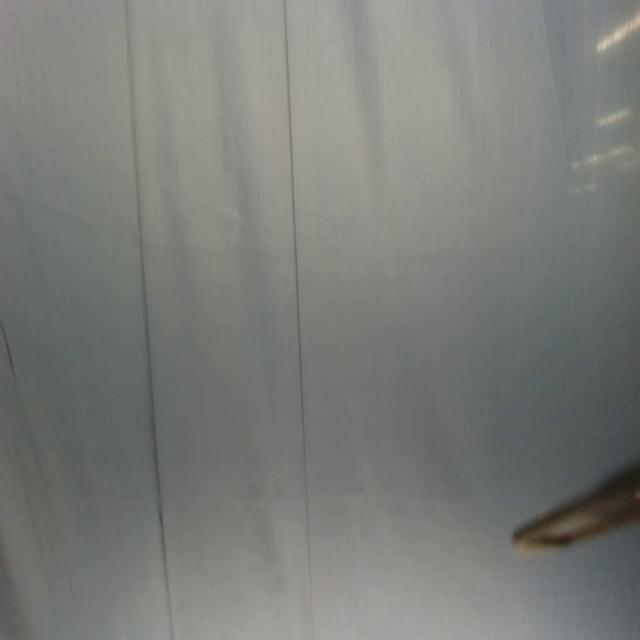color bleeding: (0, 191, 640, 269)
crease: (123, 0, 177, 639), (280, 0, 315, 639), (0, 314, 22, 392)
